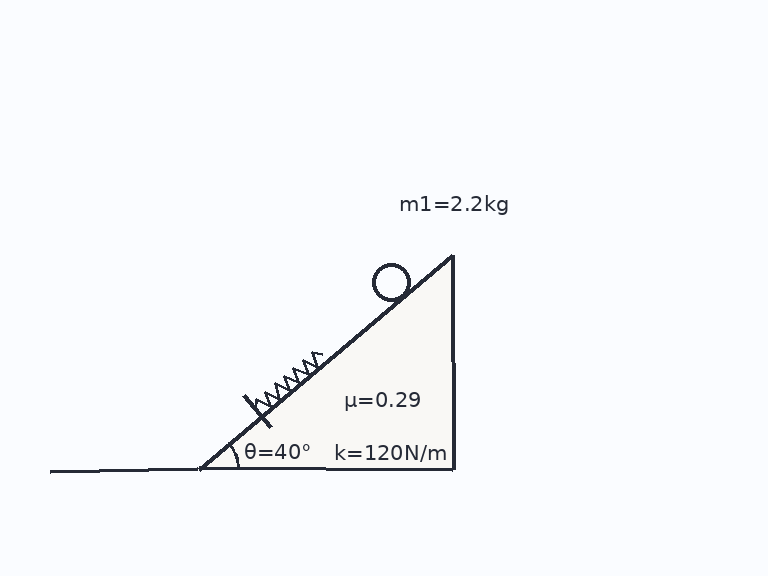ball: (370, 261, 412, 303)
ramp: (196, 254, 454, 471)
spring: (254, 350, 324, 411)
